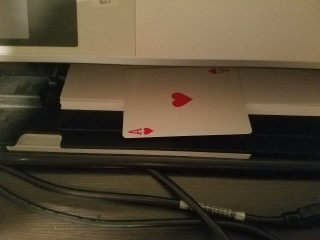AceOfHearts: (121, 65, 253, 140)
